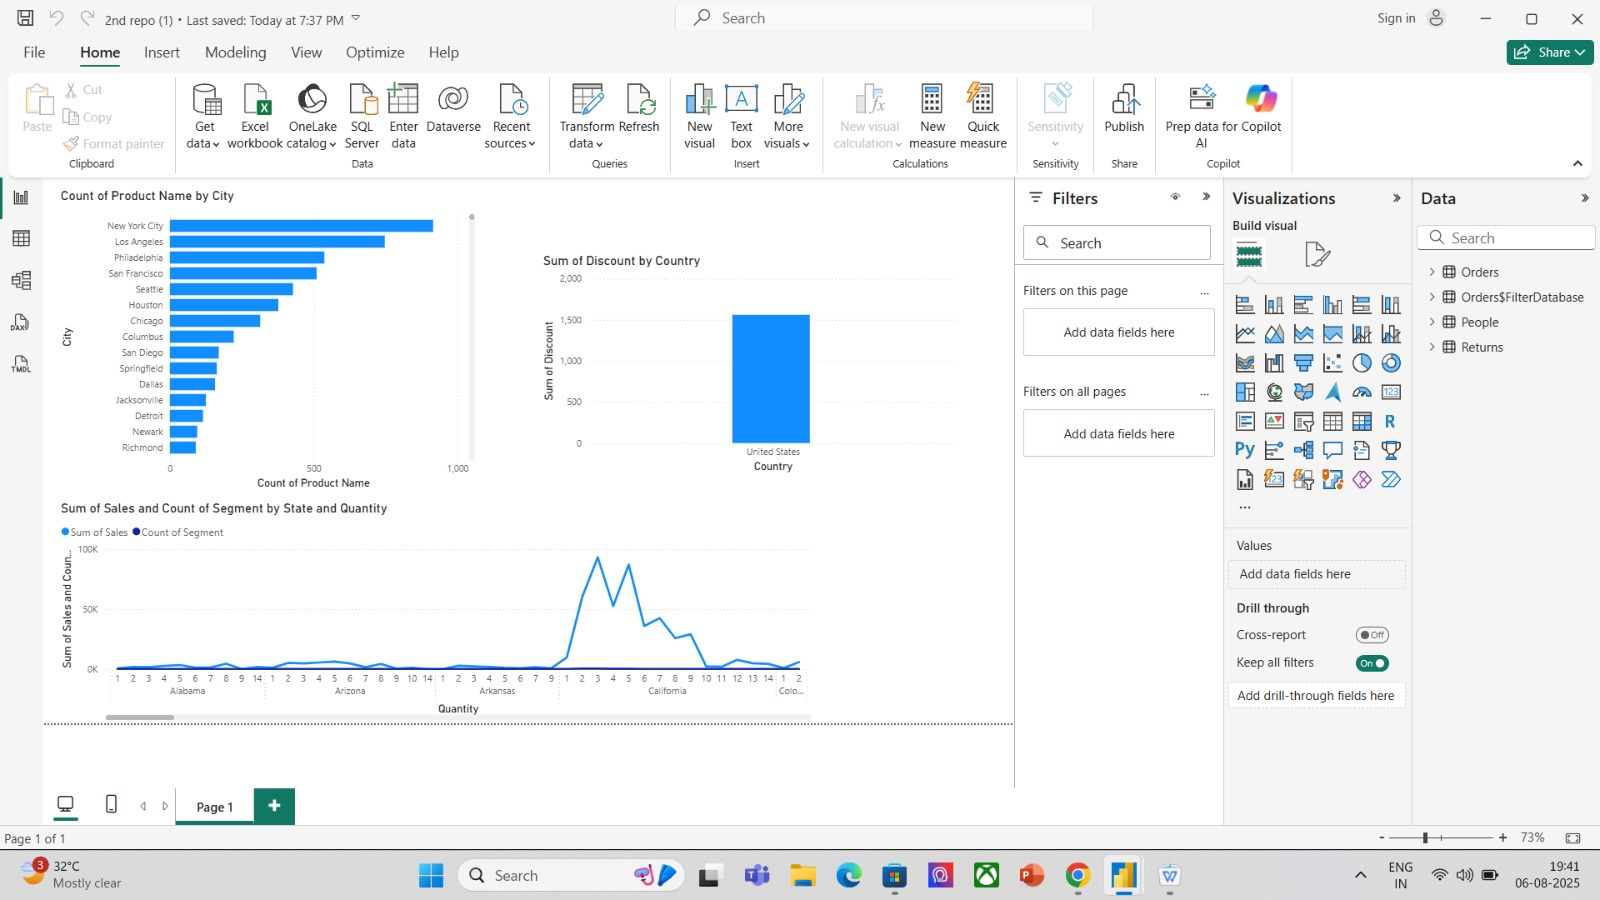

The page's visual inventory and layout, read from the dashboard file:
{"tool":"powerbi","page":{"name":"Page 1","canvas":[1280,720],"ordinal":0},"visuals":[{"type":"barChart","fields":{"Category":["Orders.City"],"Y":["CountNonNull(Orders.Product Name)"]},"box":[19.2,13.7,555.7,402.1],"z":1},{"type":"columnChart","fields":{"Category":["Orders.Country"],"Y":["Sum(Orders.Discount)"]},"box":[654.5,98.8,555.7,295],"z":2},{"type":"lineChart","fields":{"Category":["Orders.State","Orders.Quantity"],"Y":["Sum(Orders.Sales)","CountNonNull(Orders.Segment)"]},"box":[19.2,425.4,999,295],"z":3}]}

Visuals, with their boxes on the page's 1280x720 design canvas (x1, y1, x2, y2). These are canvas units, not pixel positions in the 1600x900 screenshot, which may show the page scaled, cropped or inside an application window:
barChart - Orders.City x CountNonNull(Orders.Product Name): bbox(19, 14, 575, 416)
columnChart - Orders.Country x Sum(Orders.Discount): bbox(654, 99, 1210, 394)
lineChart - Orders.State x Orders.Quantity: bbox(19, 425, 1018, 720)
